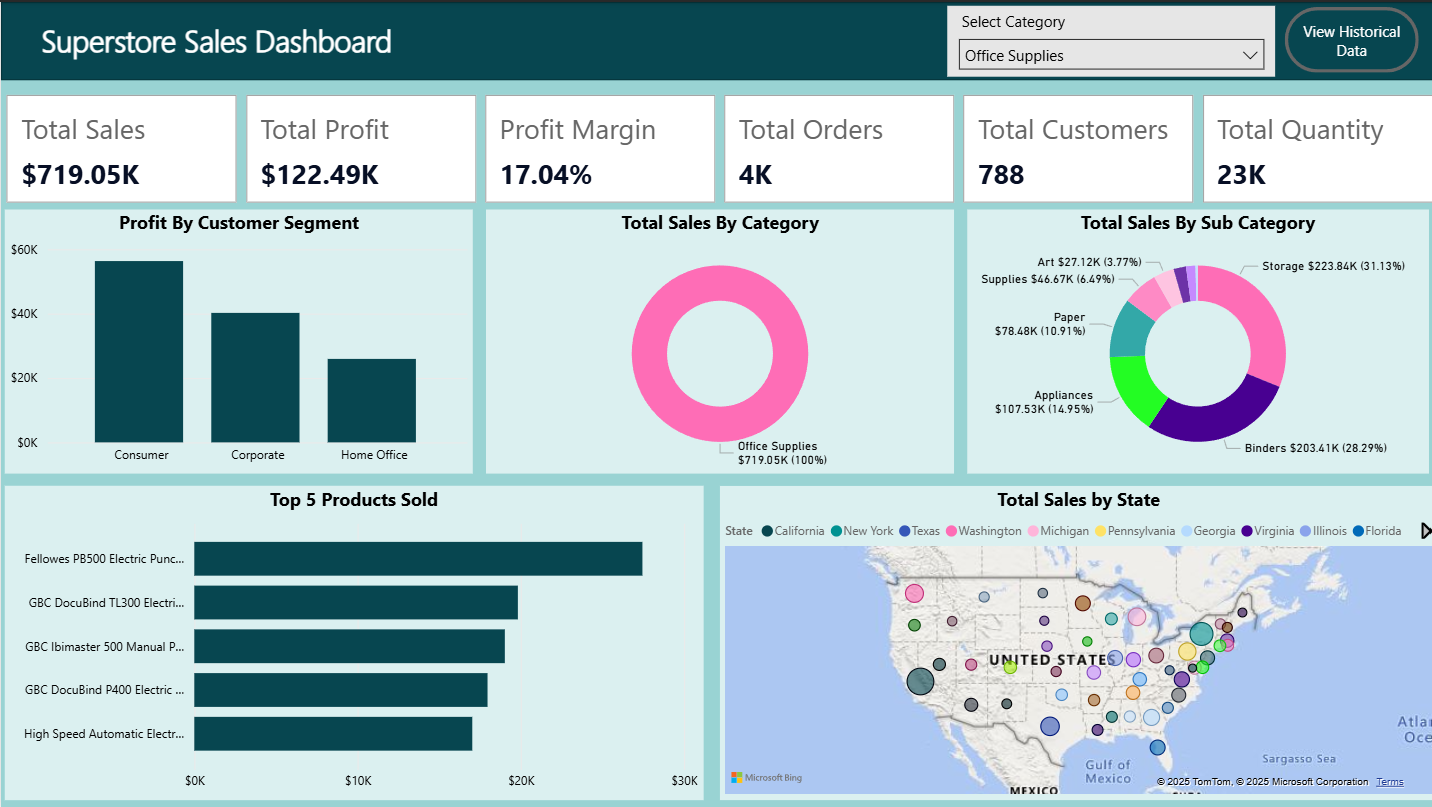

Layout of this report page (visuals, bound fields, positions):
{"tool":"powerbi","page":{"name":"Dashboard","canvas":[1280,720],"ordinal":0},"visuals":[{"type":"shape","box":[0,0,1280,69.7],"z":0,"group":"g1"},{"type":"cardVisual","fields":{"Data":["DAX_Measures.Total Sales","DAX_Measures.Total Profit","DAX_Measures.Profit Margin","DAX_Measures.Total Orders","DAX_Measures.Total Customers","DAX_Measures.Total Quantity"]},"box":[0,78.4,1280,107],"z":0},{"type":"textbox","box":[0,11.2,384.4,47.3],"z":1000,"group":"g1"},{"type":"donutChart","title":"Total Sales By Category","fields":{"Category":["DimProducts.Category"],"Y":["DAX_Measures.Total Sales"]},"box":[431.9,185.3,417.2,235.6],"z":1000},{"type":"slicer","fields":{"Values":["DimProducts.Category"]},"box":[842.4,3.7,292.3,63.4],"z":2000,"group":"g1"},{"type":"map","title":"Total Sales by State","fields":{"Category":["DimRegions.State"],"Series":["DimRegions.State"],"Size":["DAX_Measures.Total Sales"]},"box":[640.5,430.7,639.3,279.8],"z":2000},{"type":"actionButton","box":[1143.4,5,119.4,58.5],"z":3000,"group":"g1"},{"type":"columnChart","title":"Profit By Customer Segment","fields":{"Y":["DAX_Measures.Total Profit"],"Category":["DimCustomers.Segment"]},"box":[3.7,185.3,417.2,235.6],"z":3000},{"type":"donutChart","title":"Total Sales By Sub Category","fields":{"Y":["DAX_Measures.Total Sales"],"Category":["DimProducts.Sub-Category"]},"box":[860.1,185.3,411,235.6],"z":4000},{"type":"clusteredBarChart","title":"Top 5 Products Sold","fields":{"Category":["DimProducts.Product Name"],"Y":["DAX_Measures.Total Sales"]},"box":[3.7,430.7,622.1,279.8],"z":5000},{"type":"group","id":"g1","title":"Header","box":[0,0,1280,69.7],"z":6000}]}

Visuals, with their boxes in screenshot pixels (x1, y1, x2, y2), scaled from the page's 1280x720 canvas onto the 1432x807 screenshot:
shape: [left=0, top=0, right=1431, bottom=78]
cardVisual - DAX_Measures.Total Sales x DAX_Measures.Total Profit: [left=0, top=88, right=1431, bottom=208]
textbox: [left=0, top=13, right=430, bottom=66]
"Total Sales By Category" donutChart: [left=483, top=208, right=950, bottom=472]
slicer - DimProducts.Category: [left=942, top=4, right=1269, bottom=75]
"Total Sales by State" map: [left=717, top=483, right=1431, bottom=796]
actionButton: [left=1279, top=6, right=1413, bottom=71]
"Profit By Customer Segment" columnChart: [left=4, top=208, right=471, bottom=472]
"Total Sales By Sub Category" donutChart: [left=962, top=208, right=1422, bottom=472]
"Top 5 Products Sold" clusteredBarChart: [left=4, top=483, right=700, bottom=796]
"Header" group: [left=0, top=0, right=1431, bottom=78]
